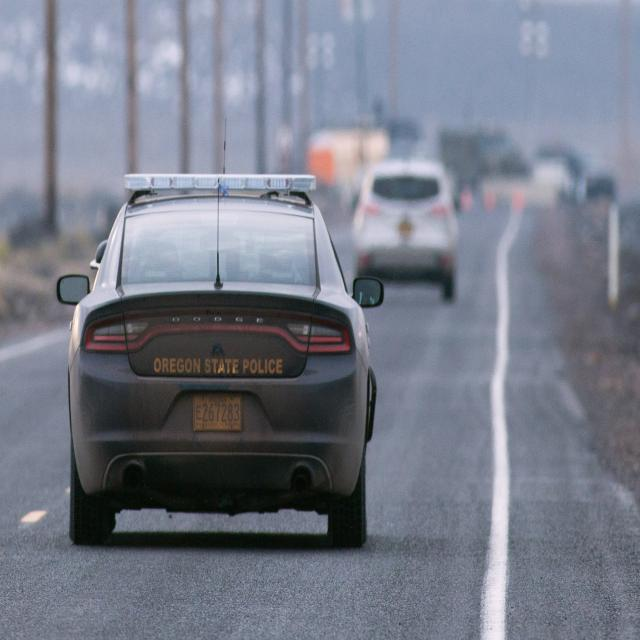cop: (54, 176, 380, 565)
